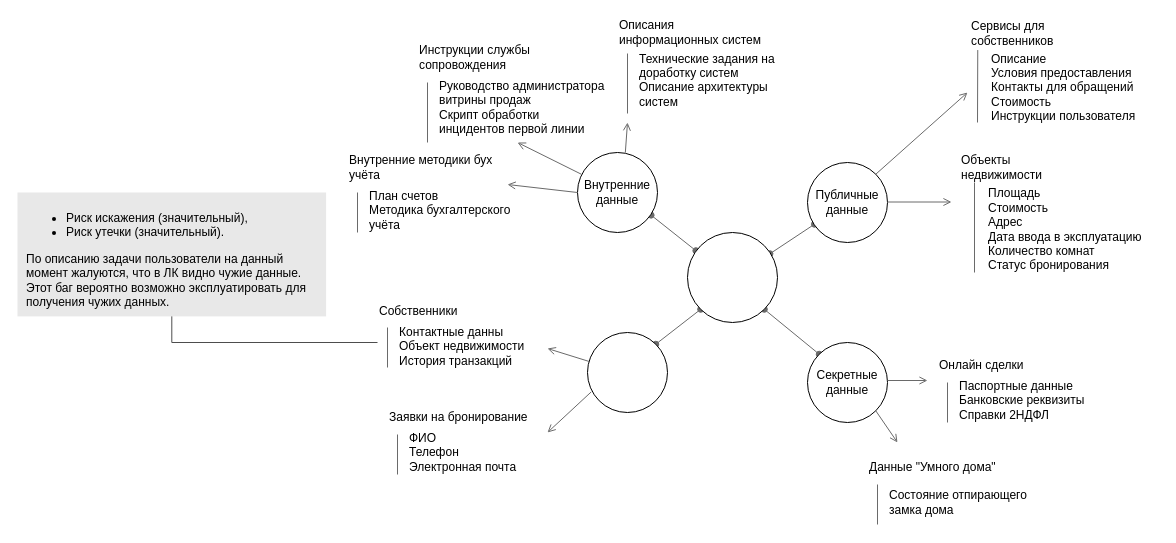
The diagram is 1176 pixels wide and 543 high, and some of its shapes have lost their labels. Each missing label, with the box of its shape:
Безопасность данных: (686, 232, 778, 322)
Конфиденциальные данные: (586, 332, 668, 412)
